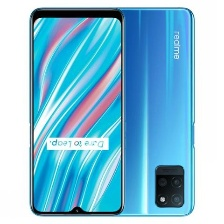phone: (88, 4, 201, 222), (27, 5, 126, 219)
